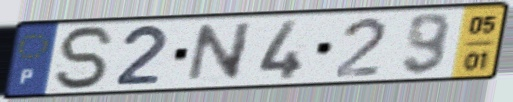2: (113, 22, 171, 89), (332, 15, 391, 80)
4: (255, 17, 308, 83)
9: (399, 11, 450, 78)
N: (182, 20, 256, 86)
S: (53, 24, 120, 93)
